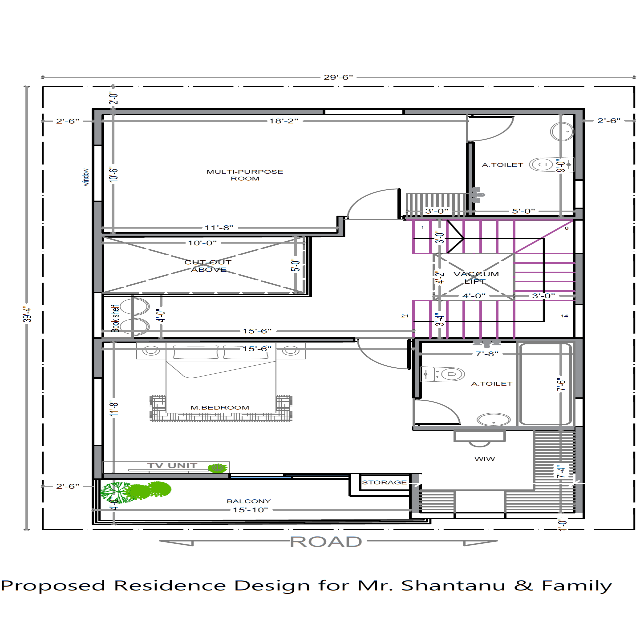window: (89, 375, 106, 447), (89, 143, 107, 204), (569, 302, 590, 340), (321, 107, 408, 116), (569, 219, 589, 256), (571, 177, 589, 210), (570, 396, 588, 428), (448, 511, 509, 520)
